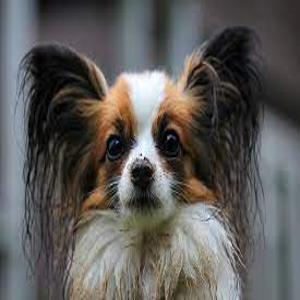yell: (20, 25, 262, 300)
